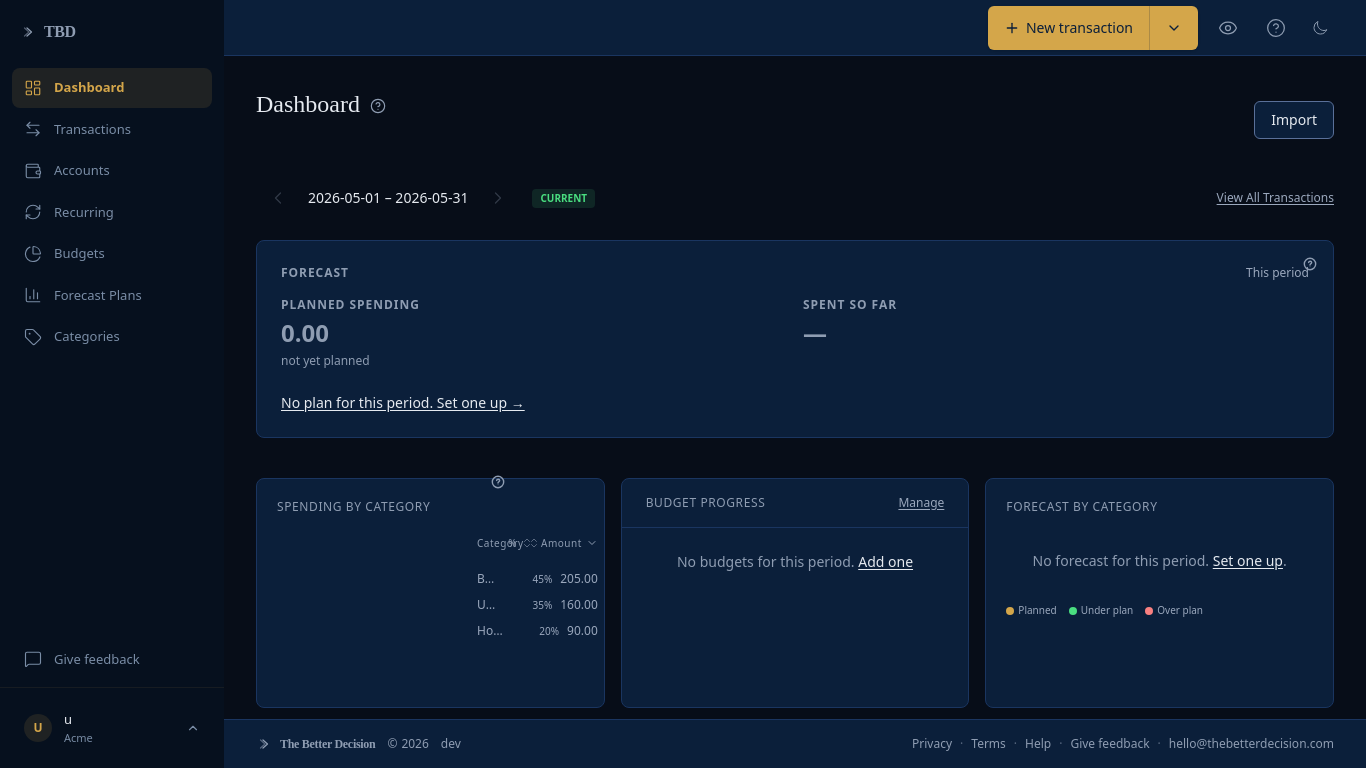
it: TBD-221 — LegacyDashboard shell (app/dashboard/page.tsx) › F-G2 (legacy): an open drilldown survives a post-write refresh
Click the button "Home 20% 90.00": (528, 631) [453,621,604,641]
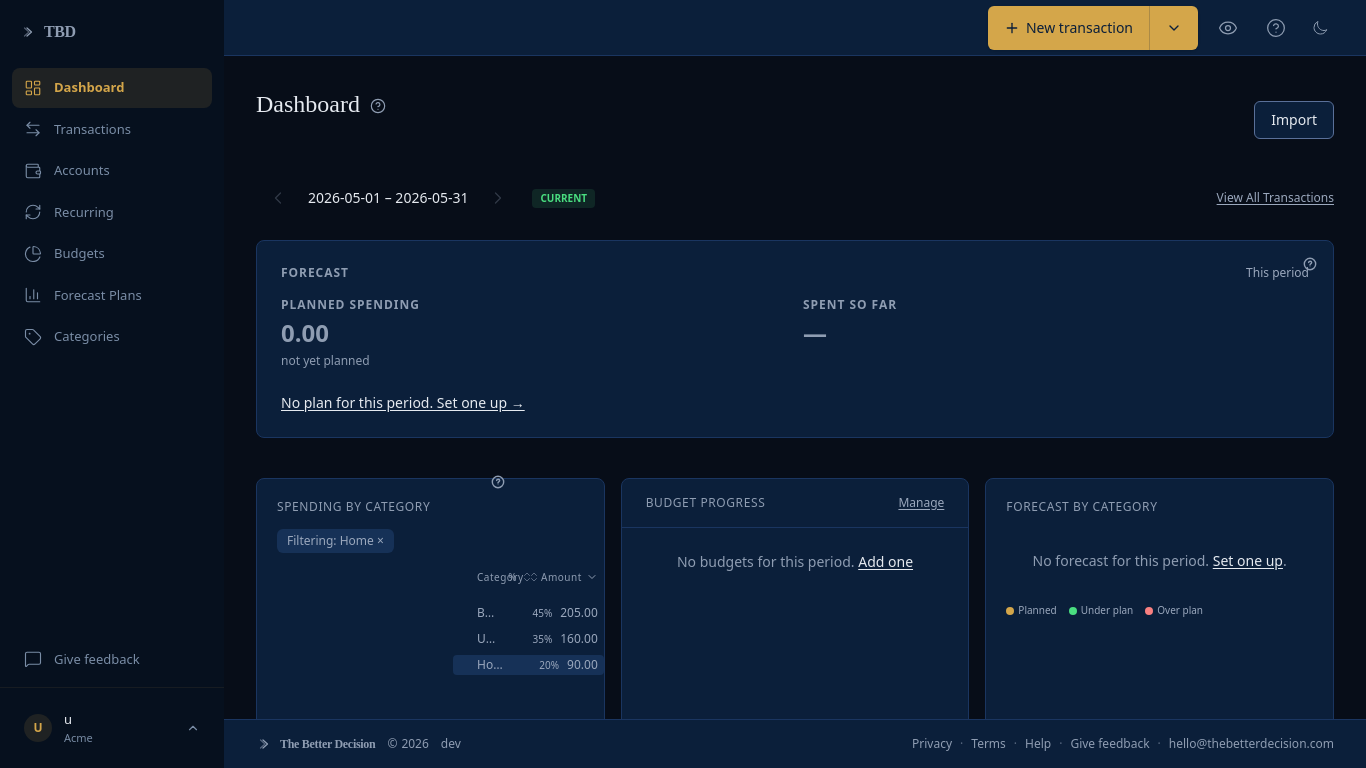
Check: the text "Home" is shown, box [477,657,503,673]
Check: the button "Filtering: Home ×" is shown, box [277,529,394,553]
